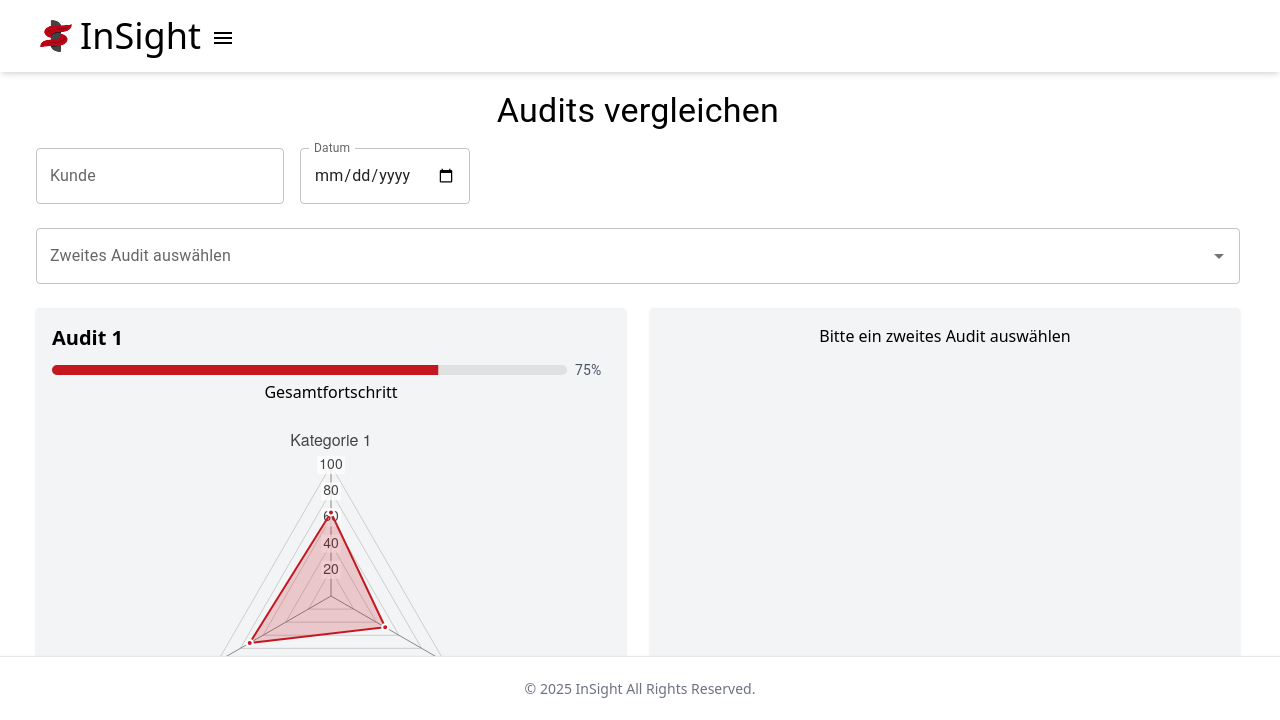
Test: CompareAudits Page › loads the audit list
Click the button named "Open" at (1219, 256), box [1205,242,1233,270]
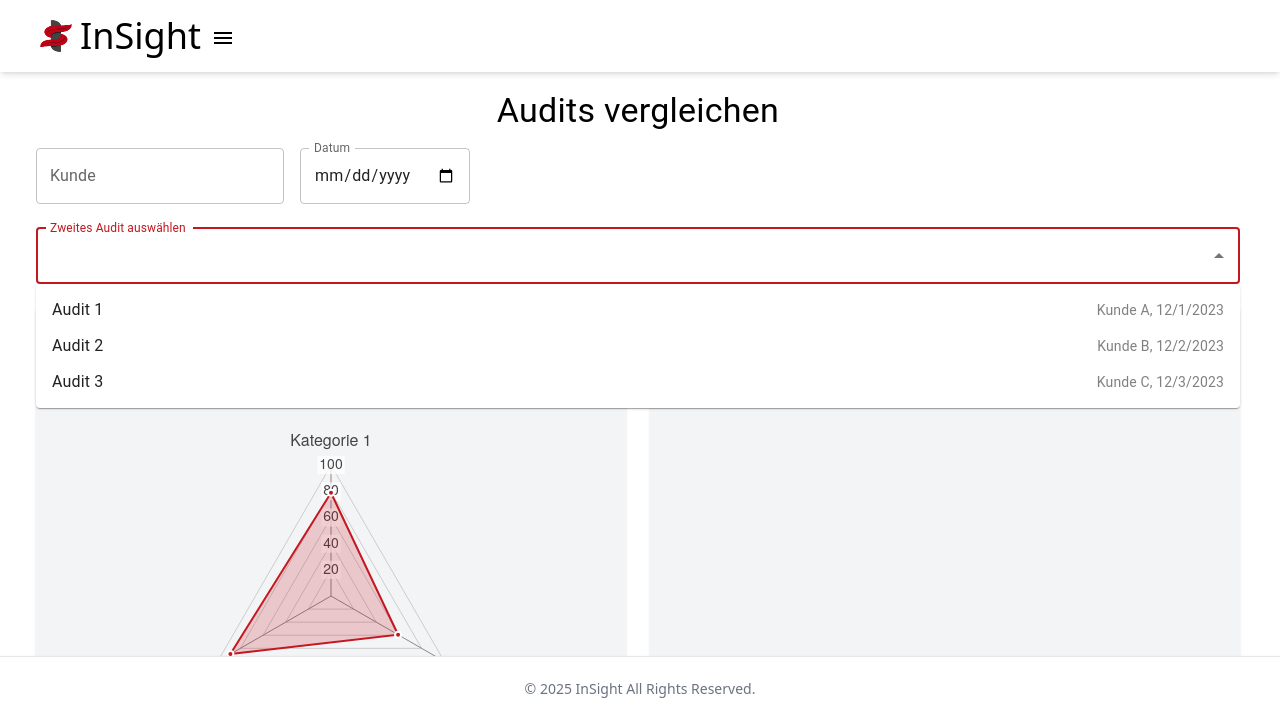
Expected: the text "Audit 2" is shown, [52,336,103,355]
